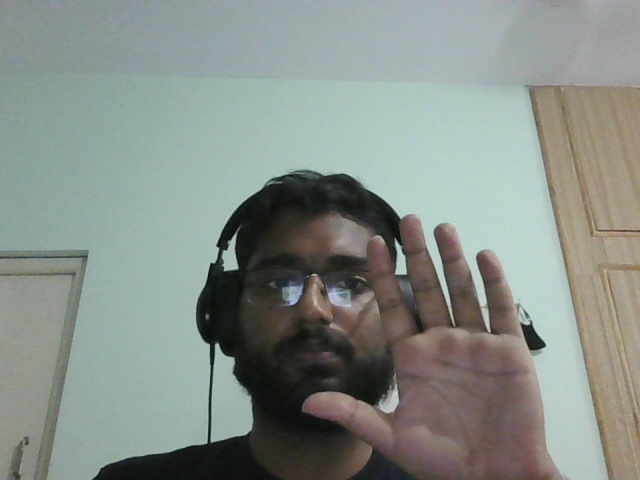Hello: (306, 215, 562, 480)
